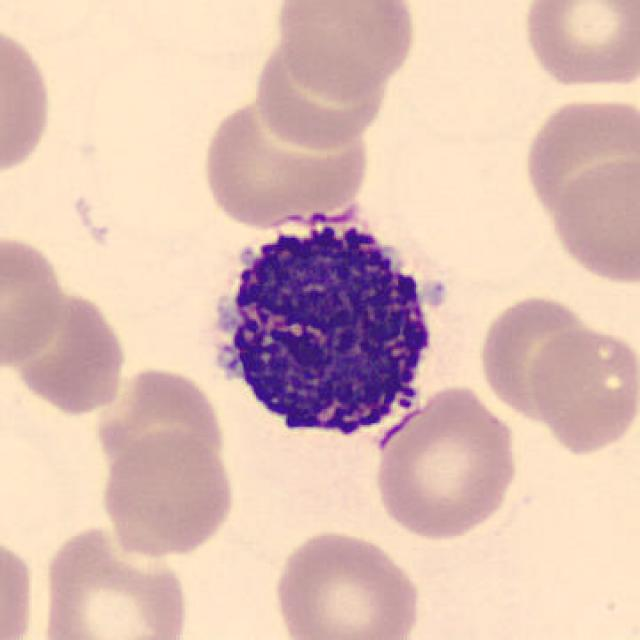Basophil: (190, 199, 450, 457)
RBC: (370, 381, 522, 543), (200, 98, 370, 224), (96, 425, 240, 559), (35, 520, 194, 640), (2, 266, 128, 416), (268, 525, 425, 640), (473, 289, 601, 425), (519, 92, 638, 236), (524, 322, 640, 457), (93, 363, 230, 476), (273, 0, 419, 102), (259, 45, 391, 155), (546, 154, 640, 288), (517, 0, 638, 93), (0, 229, 69, 370), (0, 18, 57, 182), (0, 525, 41, 640)
